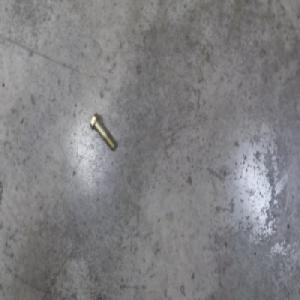Bolt: (89, 112, 116, 152)
